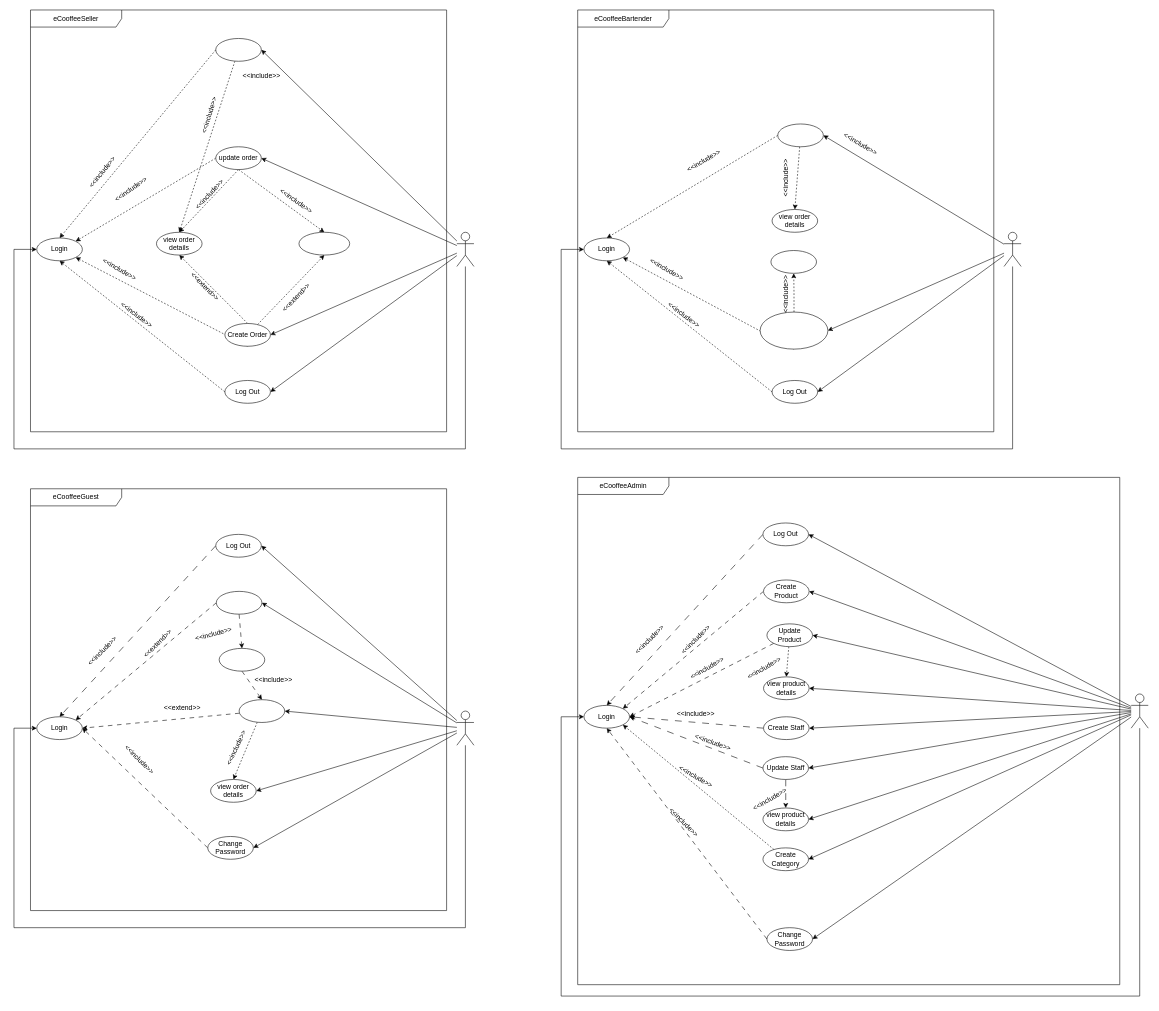
The diagram is 1159 pixels wide and 1011 high, and some of its shapes have lost their labels. Each missing label, with the centre of its shape:
"Add Product To Cart" belongs at point (262, 710).
"add product to order" belongs at point (324, 243).
"Admin" belongs at point (1139, 710).
"Bartender" belongs at point (1012, 249).
"Change Status Instock Of Products" belongs at point (794, 330).
"Check out" belongs at point (239, 602).
"Guest" belongs at point (465, 728).
"Payment" belongs at point (238, 49).
"Receive Order" belongs at point (800, 135).
"Seller" belongs at point (465, 249).
"View Cart" belongs at point (242, 659).
"view list products" belongs at point (793, 261).
